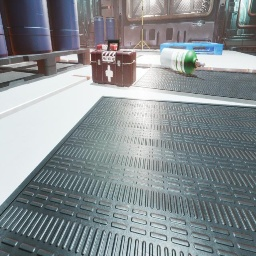0: (160, 48, 206, 74)
FirstAidBox ,: (91, 39, 136, 88), (97, 39, 118, 50)
SafetySwitchPanel ,: (104, 0, 110, 1)
